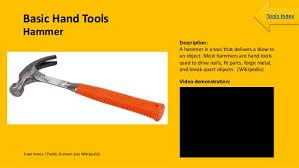hammer: (7, 52, 166, 123)
